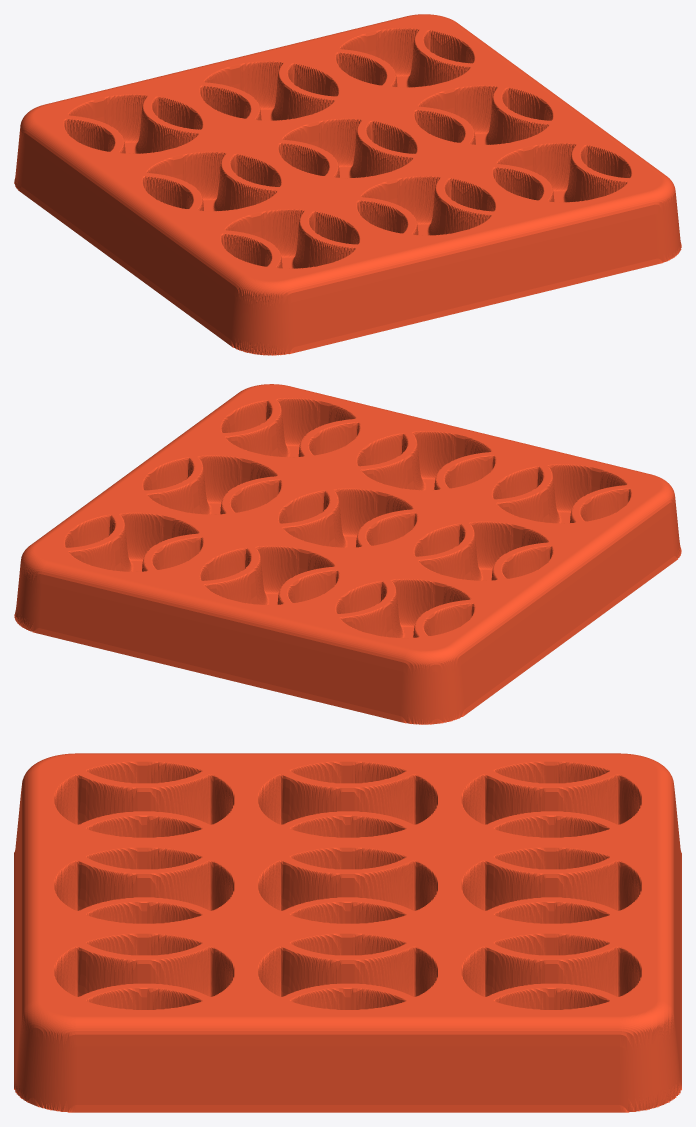
Rendered from mold.glb.
3 views of the same model, one above another, from view 1: azimuth 30°, elevation 25°; view 2: azimuth 150°, elevation 25°; view 3: azimuth 270°, elevation 25° (orthographic). The views are drawn at different scales.
Visible parts, largest first — view 1: geometry_0; view 2: geometry_0; view 3: geometry_0.
Boxes of the visible parts, x1,y1,x2,y2 form: geometry_0: [14, 14, 681, 355]; geometry_0: [14, 384, 681, 724]; geometry_0: [14, 753, 681, 1112].
Size of the model in its own units: 0.0964 by 0.0136 by 0.0964.
